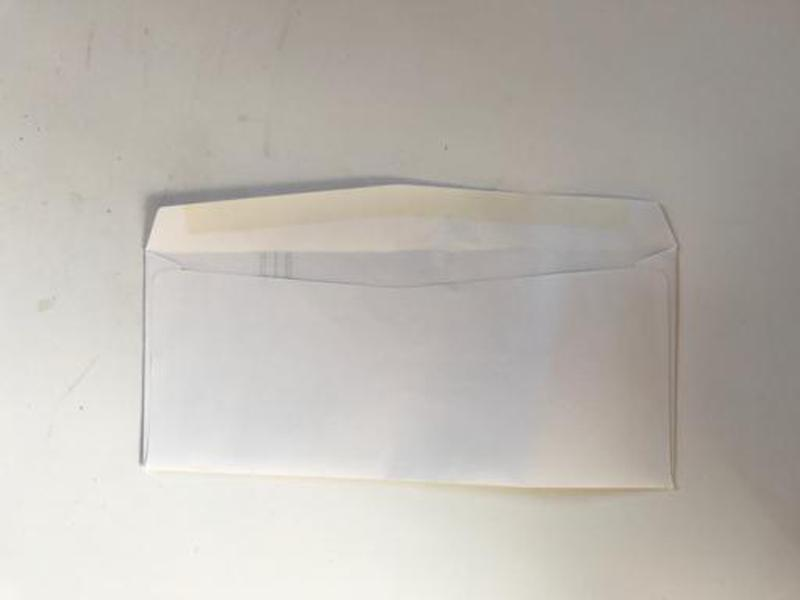paper: (138, 182, 686, 498)
